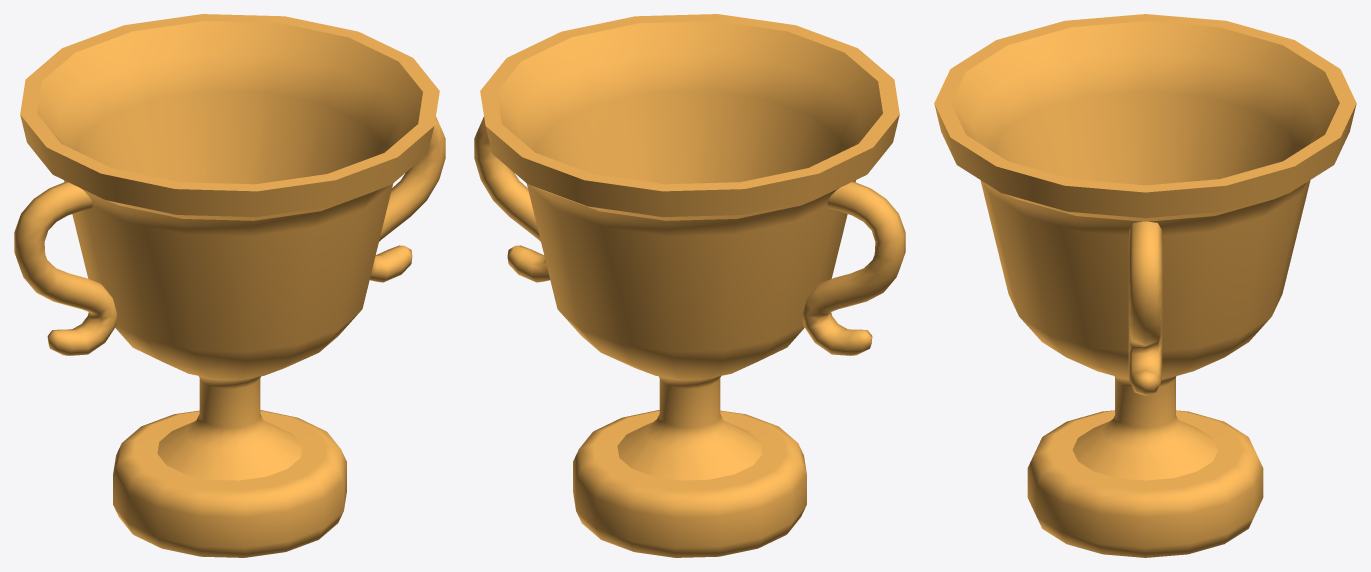
The model's file is Cup_03.fbx.
3 views of the same model, side by side, from view 1: azimuth 30°, elevation 25°; view 2: azimuth 150°, elevation 25°; view 3: azimuth 270°, elevation 25° (orthographic).
Parts seen in each view (by area): view 1: Cup_03; view 2: Cup_03; view 3: Cup_03.
Boxes of the visible parts, x1,y1,x2,y2 form: Cup_03: [14, 14, 445, 557]; Cup_03: [474, 14, 905, 557]; Cup_03: [934, 14, 1356, 557].
Bounding box in the file's own units: 33.81 × 31.33 × 29.06.
